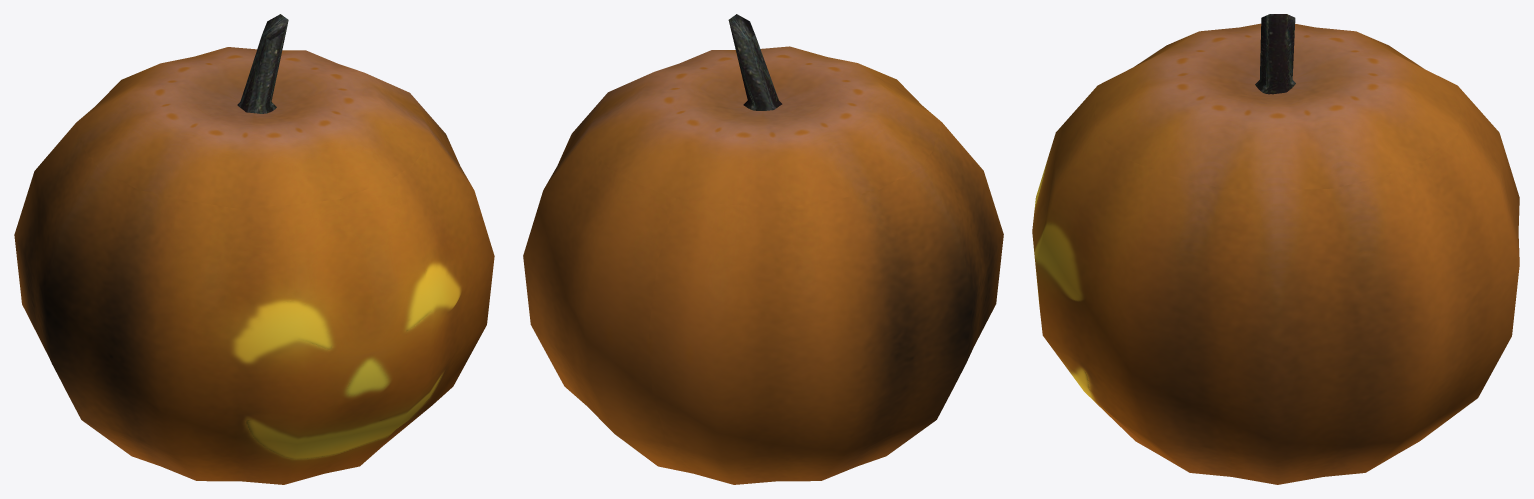
Rendered from pumpkin_carved_1.fbx.
3 renders of one model, left to right at view 1: azimuth 30°, elevation 25°; view 2: azimuth 150°, elevation 25°; view 3: azimuth 270°, elevation 25°, orthographic. The views are drawn at different scales.
Parts seen in each view (by area): view 1: pumpkin_carved_1; view 2: pumpkin_carved_1; view 3: pumpkin_carved_1.
Part boxes in pixels (x1,y1,x2,y2): pumpkin_carved_1: [14, 14, 494, 484]; pumpkin_carved_1: [523, 14, 1003, 484]; pumpkin_carved_1: [1032, 14, 1519, 484].
Bounding box in the file's own units: 2.08 × 1.95 × 2.
